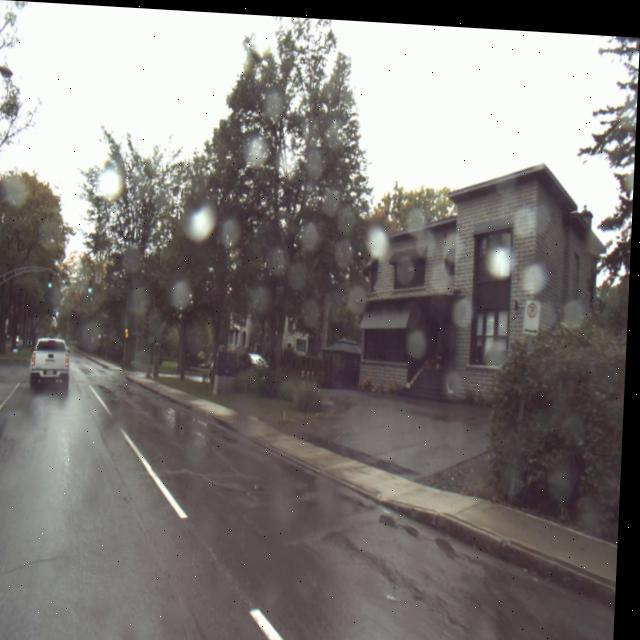car: (31, 335, 74, 392), (211, 347, 271, 383)
trafficLight: (126, 323, 133, 339)
trafficLight-Green: (49, 279, 57, 290), (90, 283, 97, 291), (0, 294, 0, 305)
